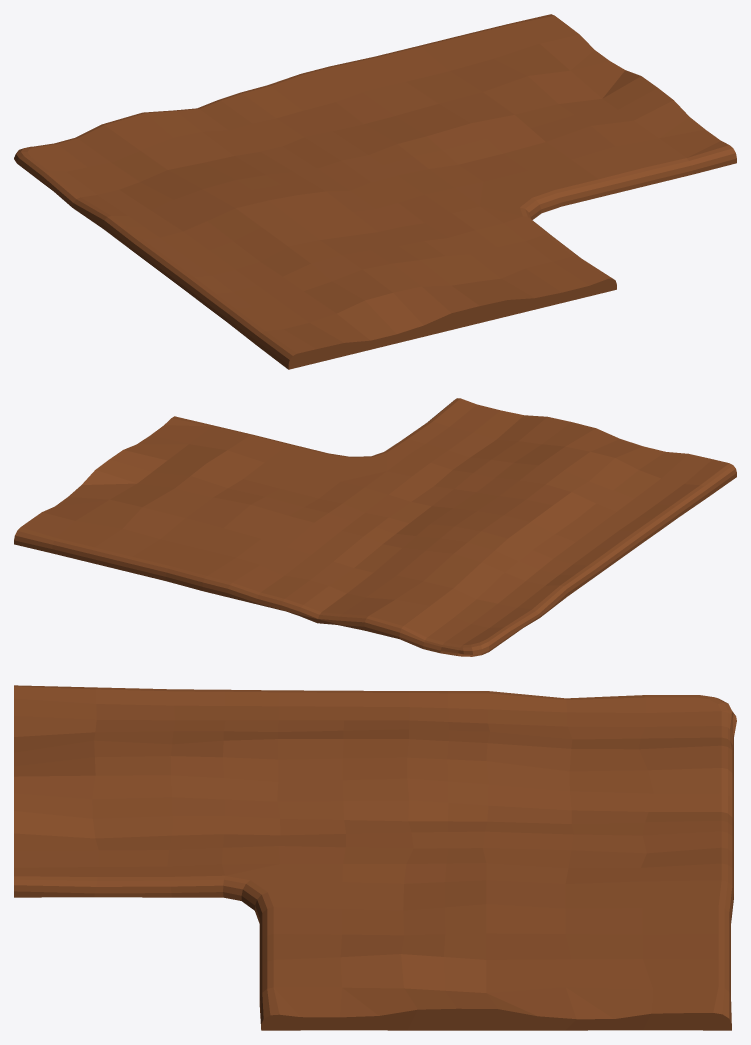
Rendered from GroundTile_5.fbx.
3 views of the same model, one above another, from view 1: azimuth 30°, elevation 25°; view 2: azimuth 150°, elevation 25°; view 3: azimuth 270°, elevation 25° (orthographic). The views are drawn at different scales.
Parts seen in each view (by area): view 1: GroundTile_5; view 2: GroundTile_5; view 3: GroundTile_5.
Boxes of the visible parts, <box> form: GroundTile_5: <box>14,14,736,369</box>; GroundTile_5: <box>14,398,736,656</box>; GroundTile_5: <box>14,685,736,1030</box>.
Size of the model in its own units: 500 by 22.12 by 460.
